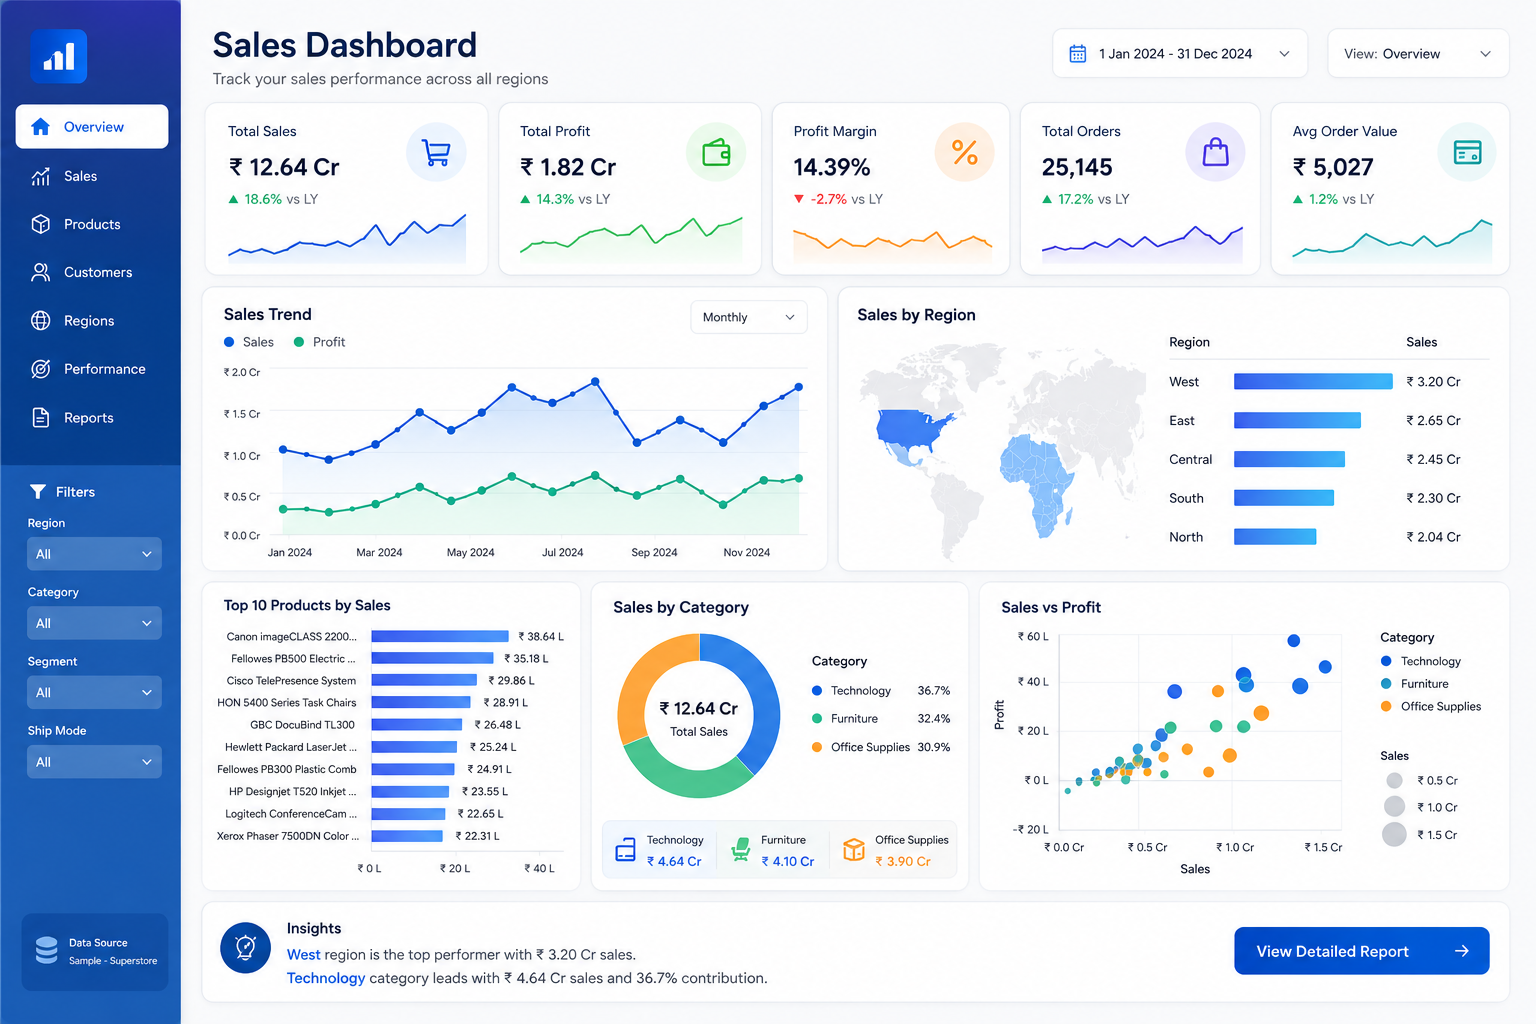

What the dashboard file says about the page in this screenshot:
{"tool":"powerbi","page":{"name":"Page 1","canvas":[1480,820],"ordinal":0},"visuals":[{"type":"textbox","box":[191.6,0,607.3,67.8],"z":0},{"type":"shape","box":[0,0,168,820.2],"z":2000},{"type":"shape","box":[178.7,74.8,250.5,149.7],"z":3000},{"type":"shape","box":[439.9,74.8,250.5,149.7],"z":4000},{"type":"shape","box":[1229.5,74.8,238.3,149.7],"z":5000},{"type":"shape","box":[962.2,74.8,250.5,149.7],"z":6000},{"type":"shape","box":[698,74.8,252,149.7],"z":7000},{"type":"textbox","box":[178.4,75.2,100.2,35.4],"z":8000},{"type":"textbox","box":[1229.4,78.1,151.8,35.4],"z":9000},{"type":"textbox","box":[962.6,78.1,100.2,35.4],"z":10000},{"type":"textbox","box":[698.7,75.2,100.2,35.4],"z":11000},{"type":"textbox","box":[439.3,78.1,100.2,35.4],"z":12000},{"type":"cardVisual","fields":{"Data":["Sum(Sales.Total Sales)"]},"box":[190.3,103.5,132.8,37],"z":13000},{"type":"cardVisual","fields":{"Data":["Table.Average Order Value"]},"box":[1229.5,103.9,119.1,48.9],"z":14000},{"type":"cardVisual","fields":{"Data":["Table.Total Orders"]},"box":[969.9,100.8,85.5,48.9],"z":15000},{"type":"cardVisual","fields":{"Data":["Table.Total Profit"]},"box":[449,103.9,126.8,48.9],"z":16000},{"type":"image","box":[322.8,78.1,94.3,79.6],"z":17000},{"type":"image","box":[586.5,77.9,91.6,76.4],"z":18000},{"type":"image","box":[840,77.9,88.6,71.8],"z":19000},{"type":"image","box":[1104.3,76.4,85.5,74.8],"z":20000},{"type":"image","box":[1367,76.4,85.5,77.9],"z":21000},{"type":"cardVisual","fields":{"Data":["Table.Profit Margin"]},"box":[710.2,102.3,103.9,50.4],"z":22000},{"type":"areaChart","fields":{"Category":["Calendar.Month Year"],"Y":["Table.Total Sales"]},"box":[190.3,149.7,238.4,72.1],"z":23000},{"type":"areaChart","fields":{"Category":["Calendar.Month Year"],"Y":["Table.Total Profit"]},"box":[445.3,149.7,238.4,72.1],"z":24000},{"type":"areaChart","fields":{"Category":["Calendar.Month Year"],"Y":["Table.Profit Margin"]},"box":[704,151.5,238.4,72.1],"z":25000},{"type":"areaChart","fields":{"Category":["Calendar.Month Year"],"Y":["Table.Total Orders"]},"box":[968.2,149.7,238.4,72.1],"z":26000},{"type":"areaChart","fields":{"Category":["Calendar.Month Year"],"Y":["Sum(Sales.Total Sales)","Table.Average Order Value"]},"box":[1239.8,149.7,227.3,72.1],"z":27000},{"type":"stackedAreaChart","title":"Sales Trend","fields":{"Category":["Calendar.Month Year"],"Y":["Table.Total Profit","Table.Total Sales"]},"box":[178.7,238.3,768.3,281],"z":28000},{"type":"pivotTable","fields":{"Rows":["Sales.Region"],"Values":["Sum(Sales.Total Sales)","Table.Sales Bar"]},"box":[969.9,238.3,501,281],"z":29000},{"type":"clusteredBarChart","fields":{"Y":["Table.Total Sales"],"Category":["Sales.Product"]},"box":[178.7,530,511.7,278],"z":30000},{"type":"donutChart","fields":{"Y":["Sum(Sales.Total Sales)"],"Category":["Sales.PaymentMethod"]},"box":[704.1,530,325.3,278],"z":31000},{"type":"pivotTable","fields":{"Rows":["Sales.Salesperson"],"Values":["Table.Total Sales","Table.Profit Margin","Table.Total Profit"]},"box":[1041.7,530,429.2,278],"z":32000},{"type":"actionButton","box":[0,0,100,40],"z":33000},{"type":"slicer","fields":{"Values":["Sales.PaymentMethod"]},"box":[10.7,432.2,146.6,74.8],"z":34000},{"type":"slicer","fields":{"Values":["Sales.Product"]},"box":[10.7,323.8,146.6,85.5],"z":35000},{"type":"slicer","fields":{"Values":["Sales.Salesperson"]},"box":[10.7,530,146.6,74.8],"z":36000},{"type":"slicer","fields":{"Values":["Sales.Region"]},"box":[10.7,224.5,146.6,74.8],"z":37000},{"type":"slicer","fields":{"Values":["Sales.StoreLocation"]},"box":[10.7,630.8,146.6,74.8],"z":38000},{"type":"textbox","box":[65.7,116.1,70.3,51.9],"z":39000},{"type":"image","box":[26,116.1,39.7,39.7],"z":40000},{"type":"image","box":[29,10.7,110,58],"z":41000},{"type":"slicer","fields":{"Values":["Calendar.Date"]},"box":[1157.7,10.7,310.1,53.5],"z":42000},{"type":"image","box":[1104.3,15.3,67.2,42.8],"z":43000}]}

Visuals, with their boxes on the page's 1480x820 design canvas (x1, y1, x2, y2). These are canvas units, not pixel positions in the 1536x1024 screenshot, which may show the page scaled, cropped or inside an application window:
textbox: crop(192, 0, 799, 68)
shape: crop(0, 0, 168, 820)
shape: crop(179, 75, 429, 224)
shape: crop(440, 75, 690, 224)
shape: crop(1230, 75, 1468, 224)
shape: crop(962, 75, 1213, 224)
shape: crop(698, 75, 950, 224)
textbox: crop(178, 75, 279, 111)
textbox: crop(1229, 78, 1381, 114)
textbox: crop(963, 78, 1063, 114)
textbox: crop(699, 75, 799, 111)
textbox: crop(439, 78, 540, 114)
cardVisual - Sum(Sales.Total Sales): crop(190, 104, 323, 140)
cardVisual - Table.Average Order Value: crop(1230, 104, 1349, 153)
cardVisual - Table.Total Orders: crop(970, 101, 1055, 150)
cardVisual - Table.Total Profit: crop(449, 104, 576, 153)
image: crop(323, 78, 417, 158)
image: crop(586, 78, 678, 154)
image: crop(840, 78, 929, 150)
image: crop(1104, 76, 1190, 151)
image: crop(1367, 76, 1452, 154)
cardVisual - Table.Profit Margin: crop(710, 102, 814, 153)
areaChart - Calendar.Month Year x Table.Total Sales: crop(190, 150, 429, 222)
areaChart - Calendar.Month Year x Table.Total Profit: crop(445, 150, 684, 222)
areaChart - Calendar.Month Year x Table.Profit Margin: crop(704, 152, 942, 224)
areaChart - Calendar.Month Year x Table.Total Orders: crop(968, 150, 1207, 222)
areaChart - Calendar.Month Year x Sum(Sales.Total Sales): crop(1240, 150, 1467, 222)
"Sales Trend" stackedAreaChart: crop(179, 238, 947, 519)
pivotTable - Sales.Region x Sum(Sales.Total Sales): crop(970, 238, 1471, 519)
clusteredBarChart - Table.Total Sales x Sales.Product: crop(179, 530, 690, 808)
donutChart - Sum(Sales.Total Sales) x Sales.PaymentMethod: crop(704, 530, 1029, 808)
pivotTable - Sales.Salesperson x Table.Total Sales: crop(1042, 530, 1471, 808)
actionButton: crop(0, 0, 100, 40)
slicer - Sales.PaymentMethod: crop(11, 432, 157, 507)
slicer - Sales.Product: crop(11, 324, 157, 409)
slicer - Sales.Salesperson: crop(11, 530, 157, 605)
slicer - Sales.Region: crop(11, 224, 157, 299)
slicer - Sales.StoreLocation: crop(11, 631, 157, 706)
textbox: crop(66, 116, 136, 168)
image: crop(26, 116, 66, 156)
image: crop(29, 11, 139, 69)
slicer - Calendar.Date: crop(1158, 11, 1468, 64)
image: crop(1104, 15, 1172, 58)
